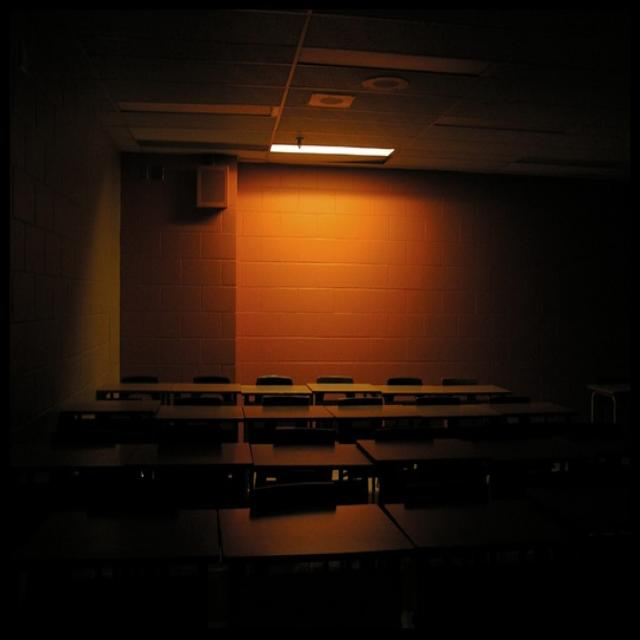Table: (43, 512, 640, 639), (37, 417, 640, 515), (56, 390, 612, 437)
chair: (239, 466, 342, 530), (266, 407, 337, 449), (315, 356, 364, 402), (250, 356, 299, 400), (190, 361, 227, 400), (114, 362, 158, 394), (388, 363, 418, 406)
